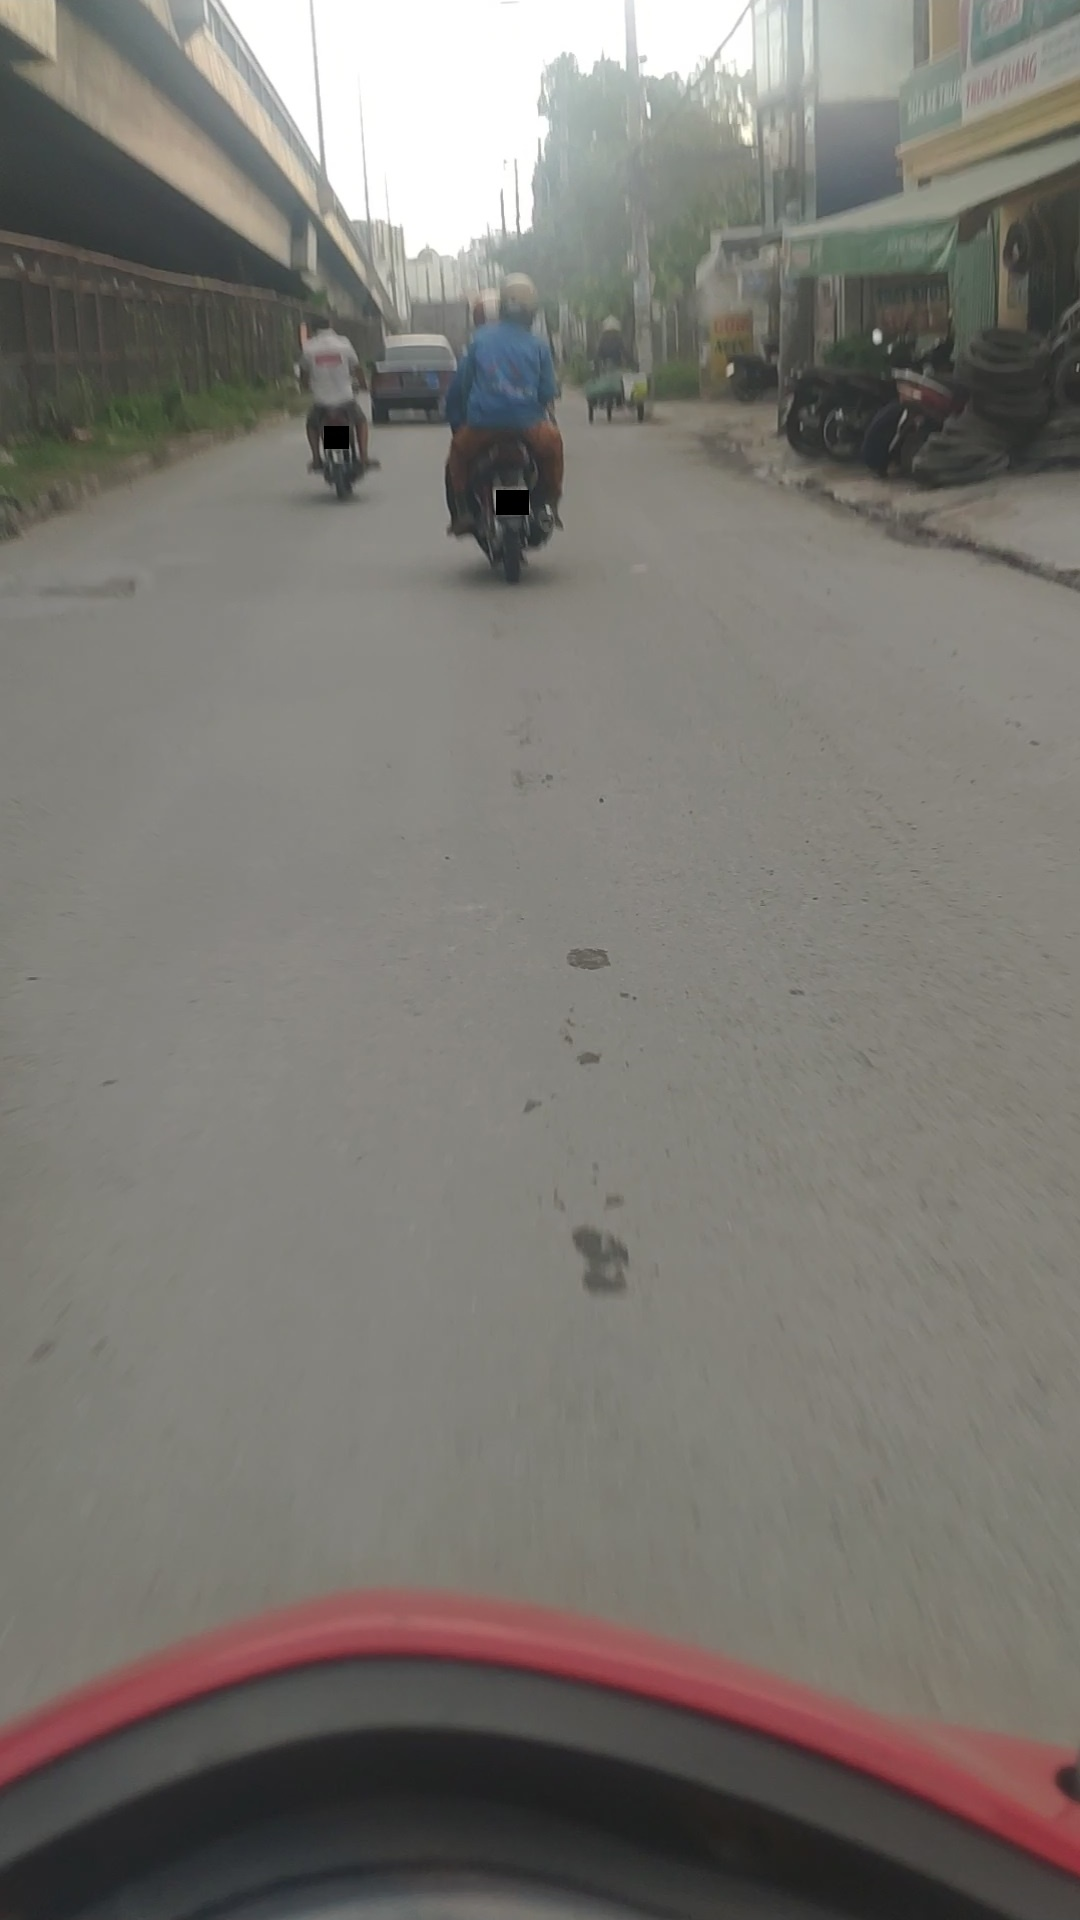hole: (1, 567, 146, 603)
